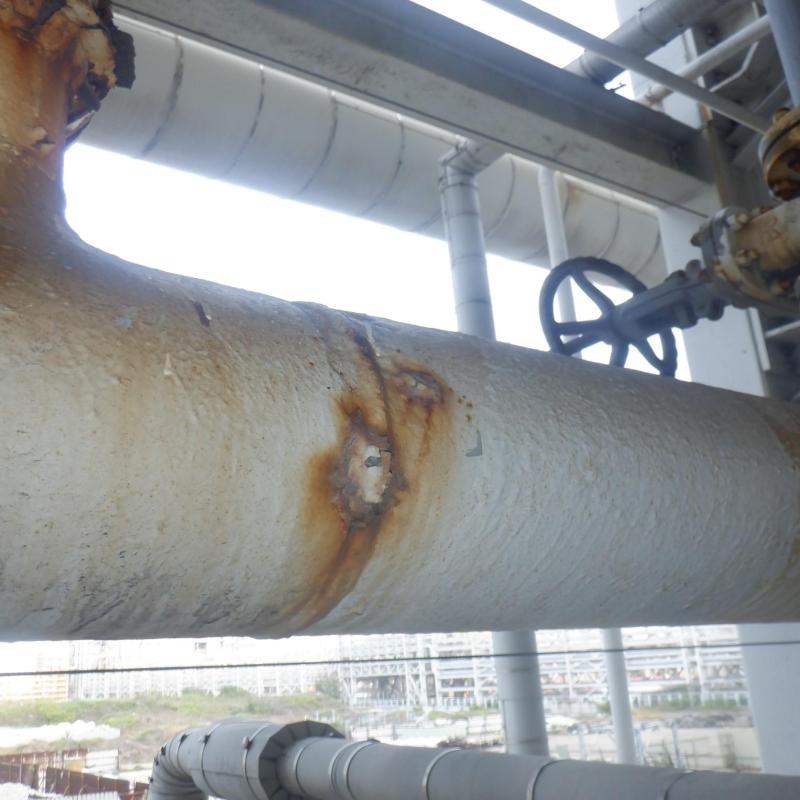Fracture: (376, 443, 408, 519)
corrosion: (325, 370, 449, 549), (0, 4, 138, 130)
